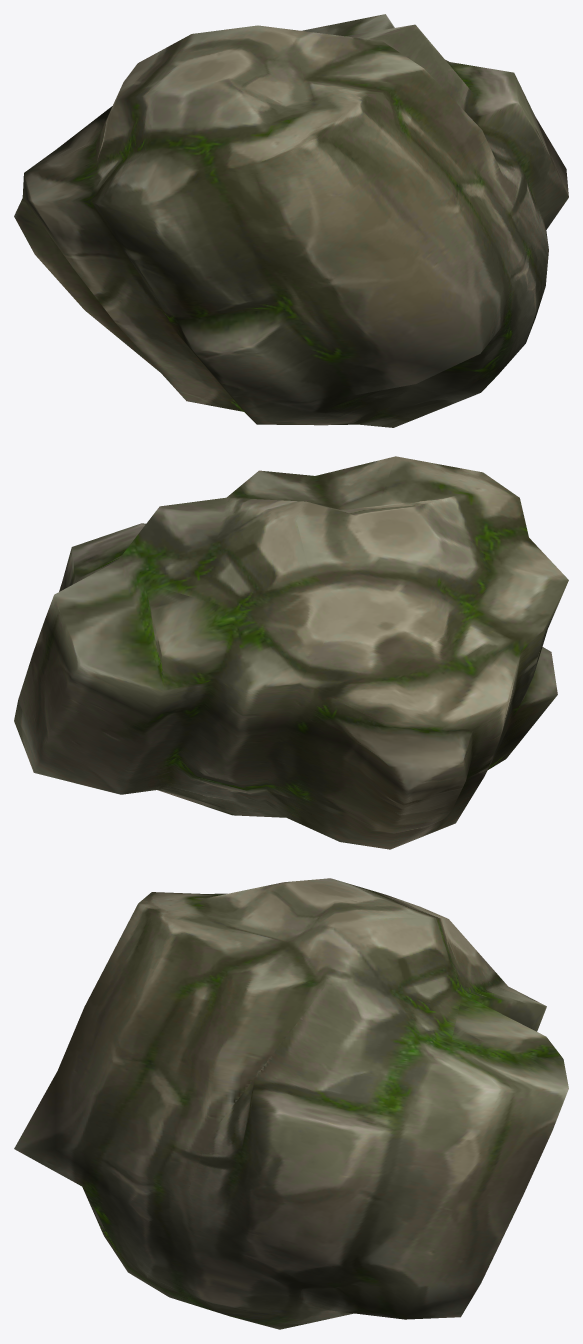
Rendered from RockFormation_4_2 (25).fbx.
3 views of the same model, one above another, from view 1: azimuth 30°, elevation 25°; view 2: azimuth 150°, elevation 25°; view 3: azimuth 270°, elevation 25° (orthographic). The views are drawn at different scales.
Parts seen in each view (by area): view 1: RockFormation_4_2 (25); view 2: RockFormation_4_2 (25); view 3: RockFormation_4_2 (25).
Boxes of the visible parts, left/top/right/bottom form: RockFormation_4_2 (25): left=14, top=14, right=568, bottom=427; RockFormation_4_2 (25): left=14, top=456, right=568, bottom=849; RockFormation_4_2 (25): left=14, top=878, right=568, bottom=1329.
Bounding box in the file's own units: 116 × 78.65 × 110.
